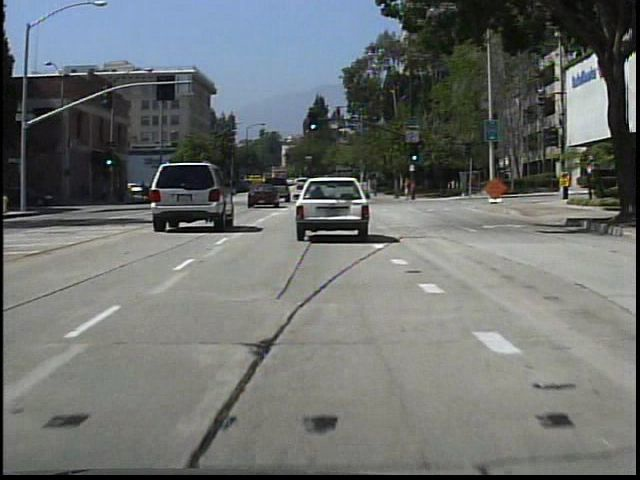person: (402, 173, 417, 206)
